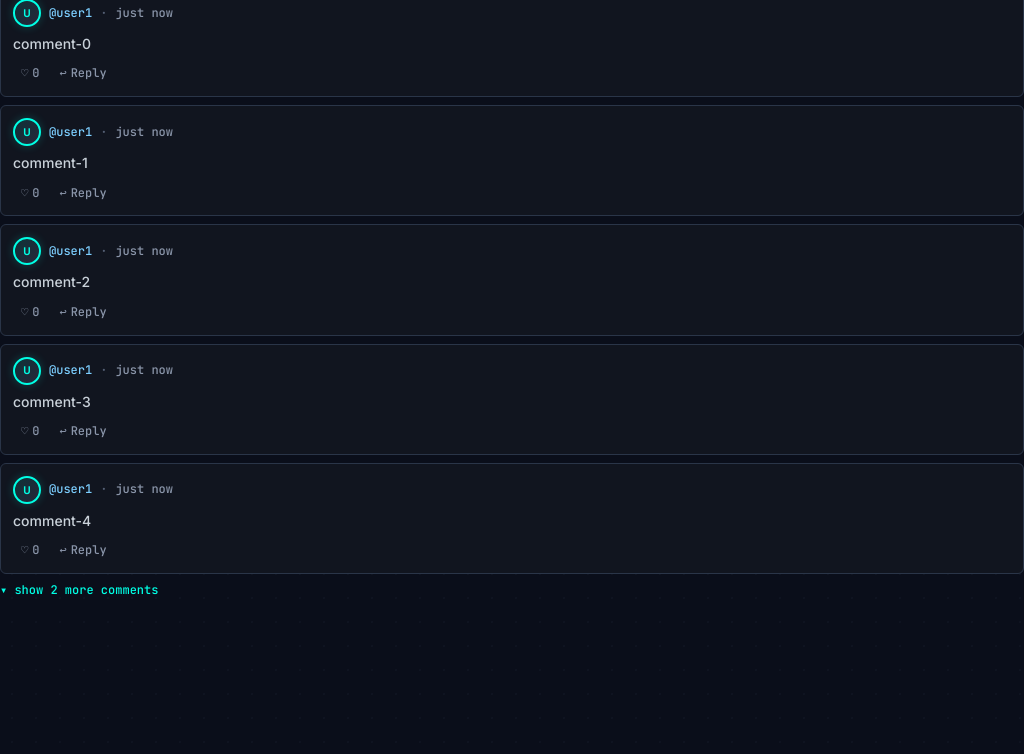
Test: CommentList › collapseAfter giới hạn N + nút show more / collapse toggle — FR-03.7
Expected: the text "comment-4" is shown, [13,512,91,529]
Expected: the text "comment-5" is not shown
# Expand → hiện hết + đổi label collapse
Click the button with test id "comments-toggle" at (79, 590), box [0,582,158,599]
(page scrolled)
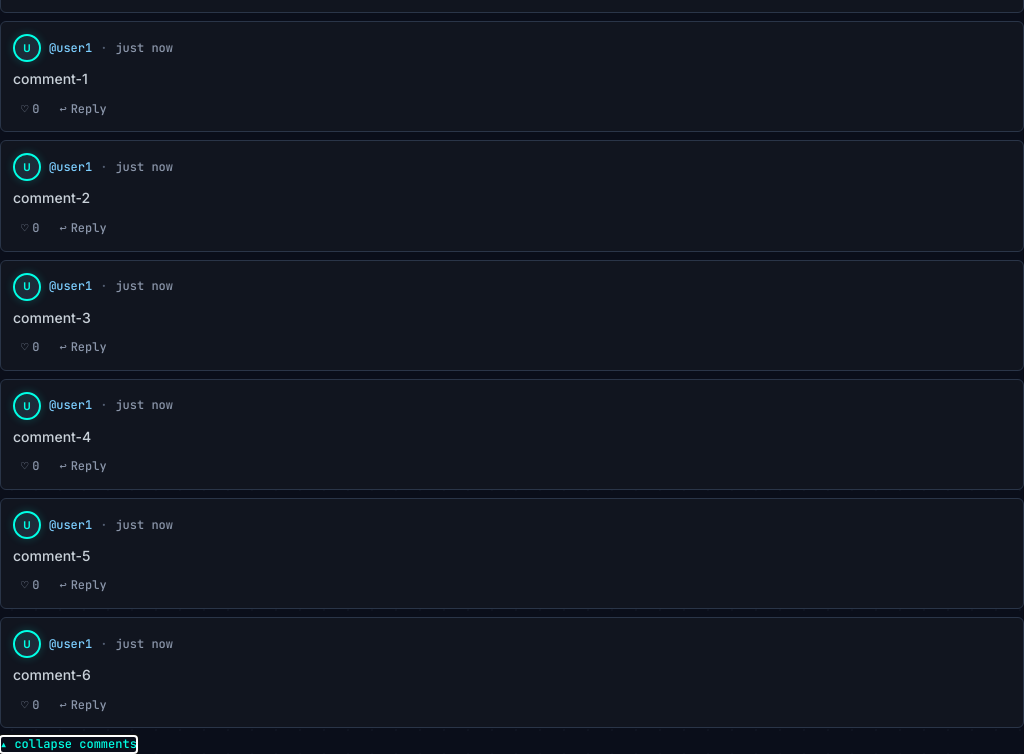
Expected: the text "comment-5" is shown, [13,547,90,564]
Expected: the text "comment-6" is shown, [13,666,91,683]
Expected: the button with test id "comments-toggle" shows "collapse comments"
# Collapse lại → ẩn 2 cuối
Click the button with test id "comments-toggle" at (68, 745), box [0,736,137,753]
(page scrolled)
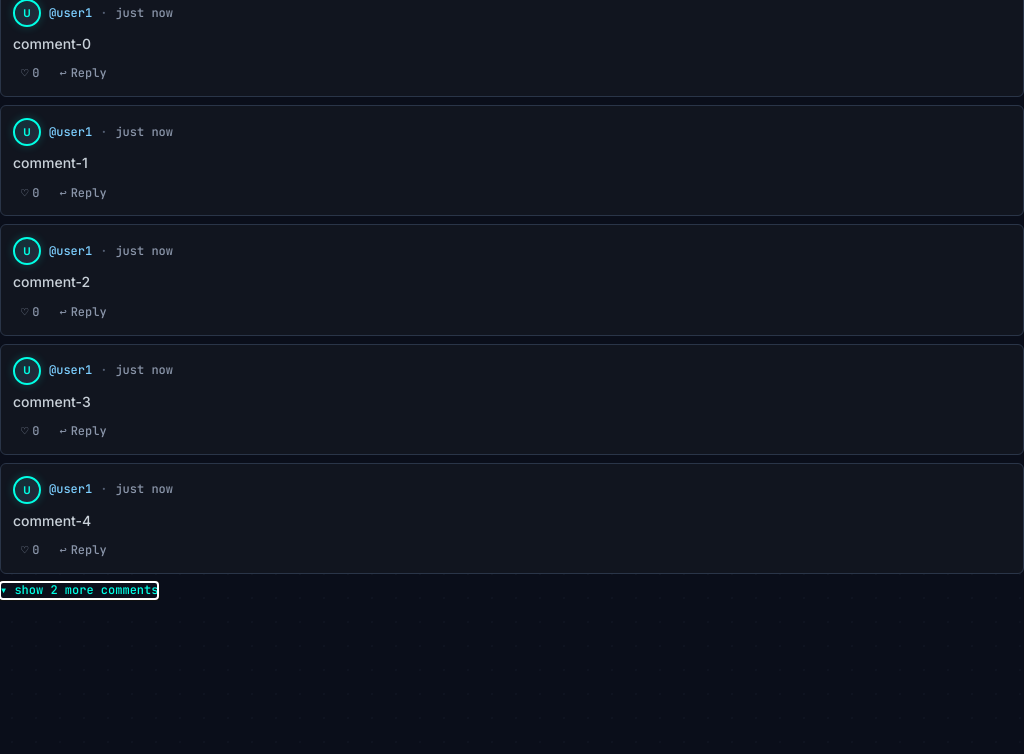
Expected: the text "comment-6" is gone
